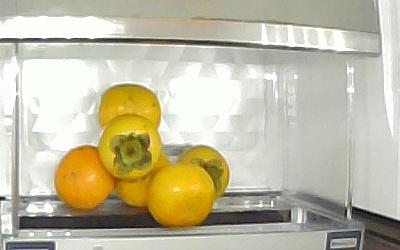persimmon: (148, 163, 216, 227), (99, 114, 162, 182), (55, 144, 115, 212), (98, 83, 162, 134), (114, 154, 171, 206), (178, 145, 231, 200)
